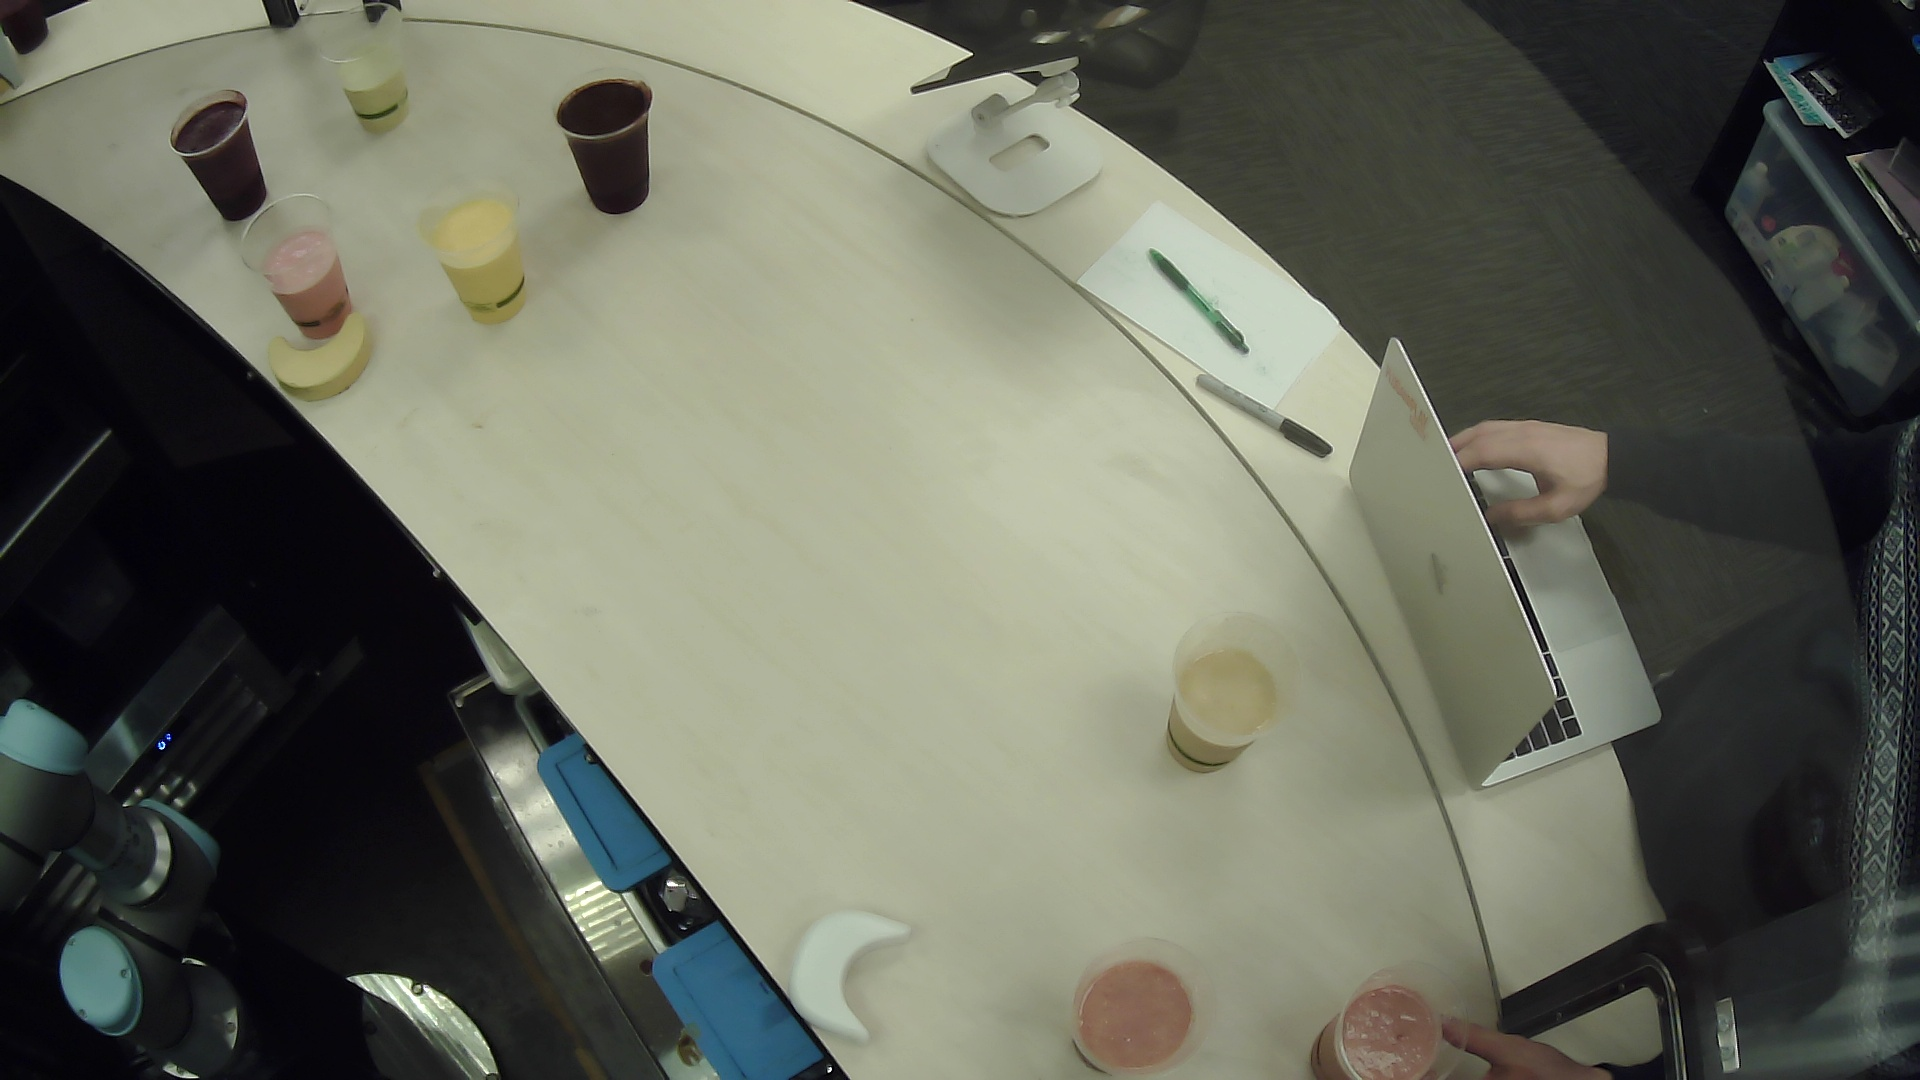Deliver: (785, 887, 928, 1058), (255, 297, 400, 414)
Full_cup: (1162, 593, 1309, 804), (1051, 924, 1228, 1080), (1296, 948, 1494, 1080), (531, 58, 670, 229), (407, 166, 541, 336), (229, 191, 371, 345), (152, 80, 280, 222), (302, 1, 427, 142)
